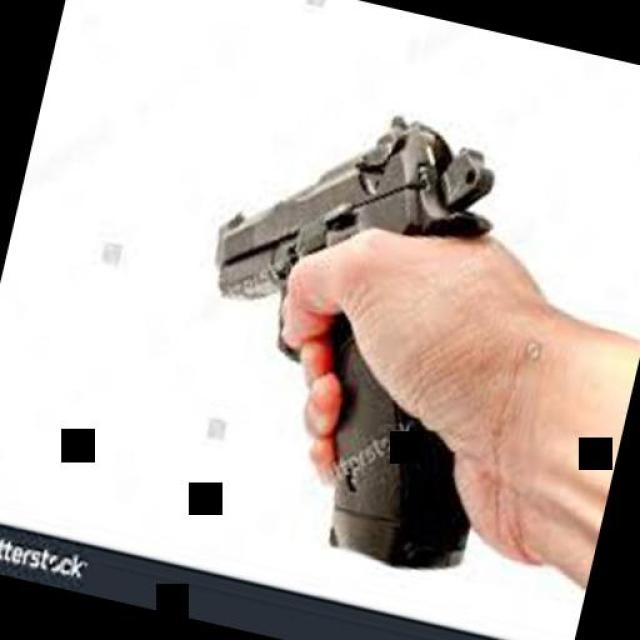gun: (154, 55, 568, 583)
